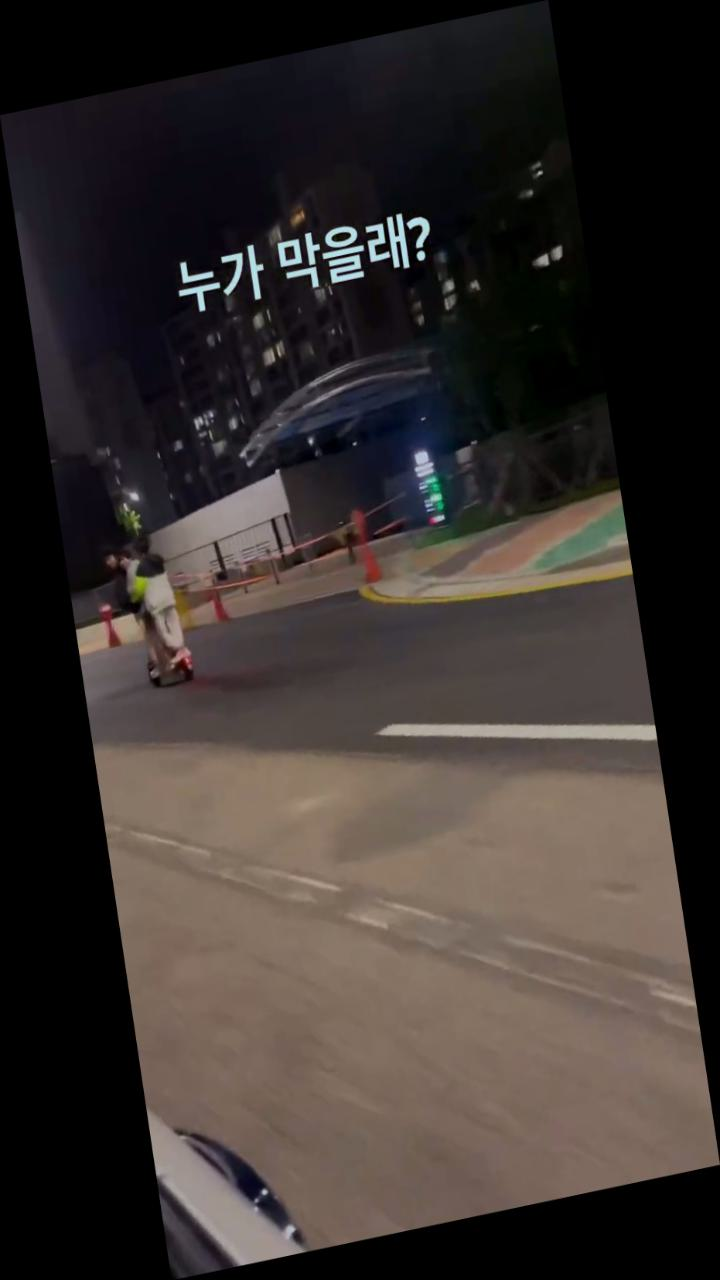multiple: (94, 526, 200, 697)
